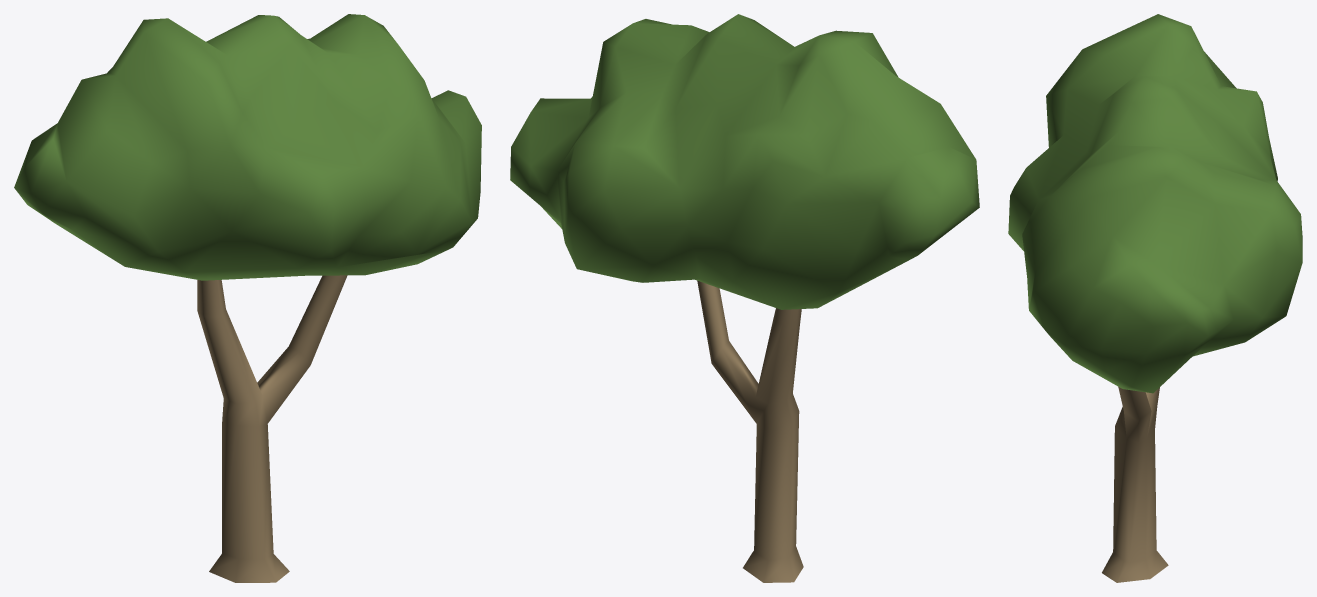
The model's file is rpgpp_ag_tree_03.fbx.
3 renders of one model, left to right at view 1: azimuth 30°, elevation 25°; view 2: azimuth 150°, elevation 25°; view 3: azimuth 270°, elevation 25°, orthographic. The views are drawn at different scales.
Parts seen in each view (by area): view 1: rpgpp_ag_tree_03; view 2: rpgpp_ag_tree_03; view 3: rpgpp_ag_tree_03.
Boxes of the visible parts, x1,y1,x2,y2 form: rpgpp_ag_tree_03: (14,14,481,582); rpgpp_ag_tree_03: (510,14,979,582); rpgpp_ag_tree_03: (1008,14,1302,582).
Size of the model in its own units: 4.87 by 5.9 by 3.05.
